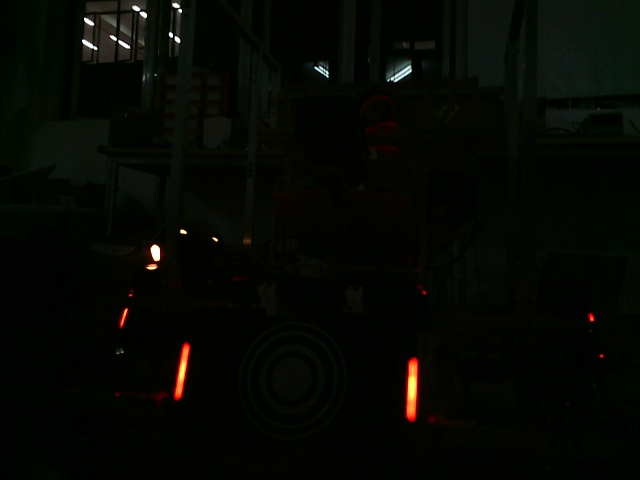lamp: (400, 356, 422, 423), (174, 340, 191, 401)
